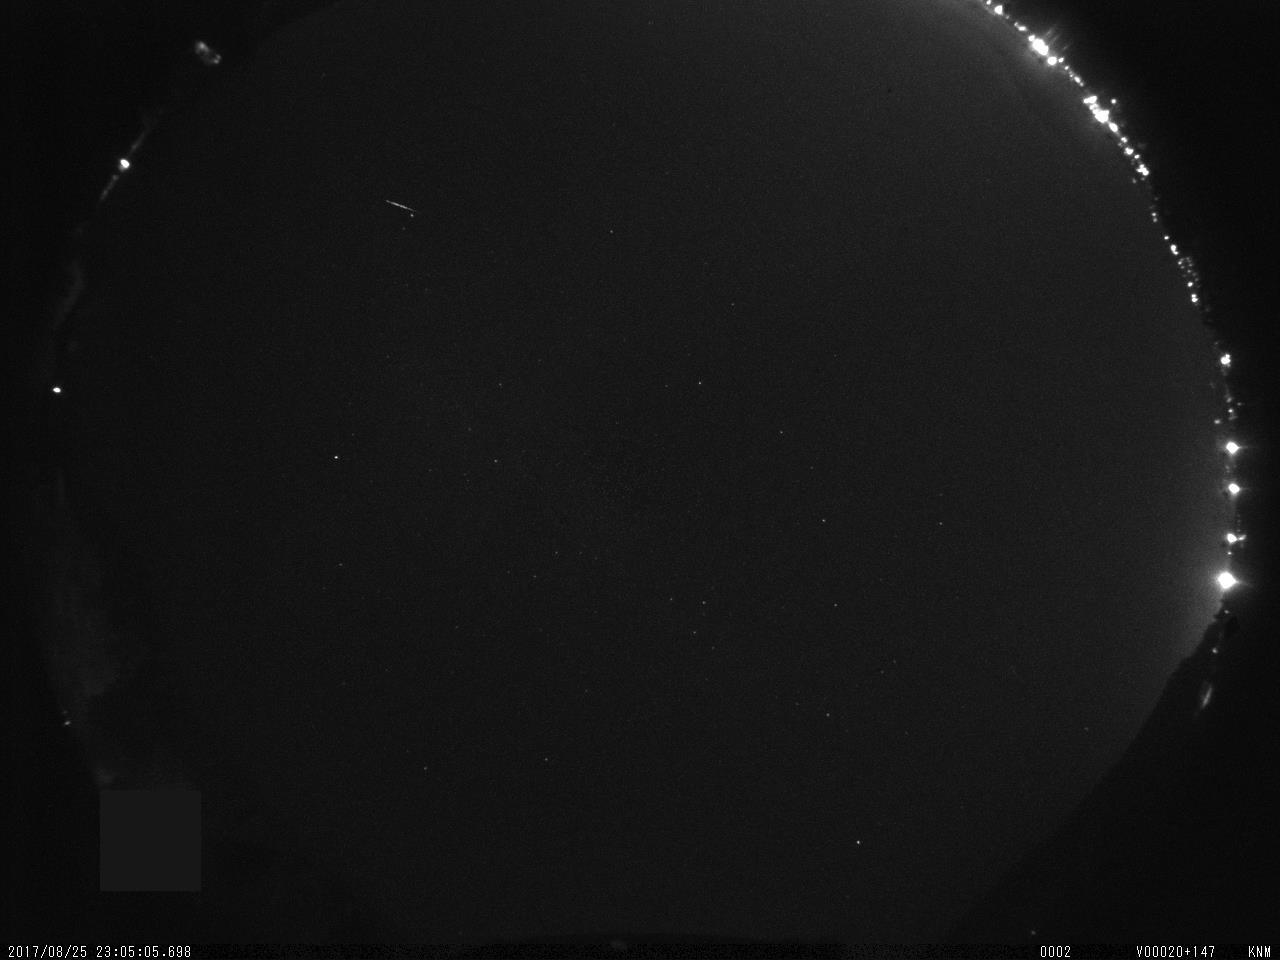meteor: (358, 186, 441, 232)
